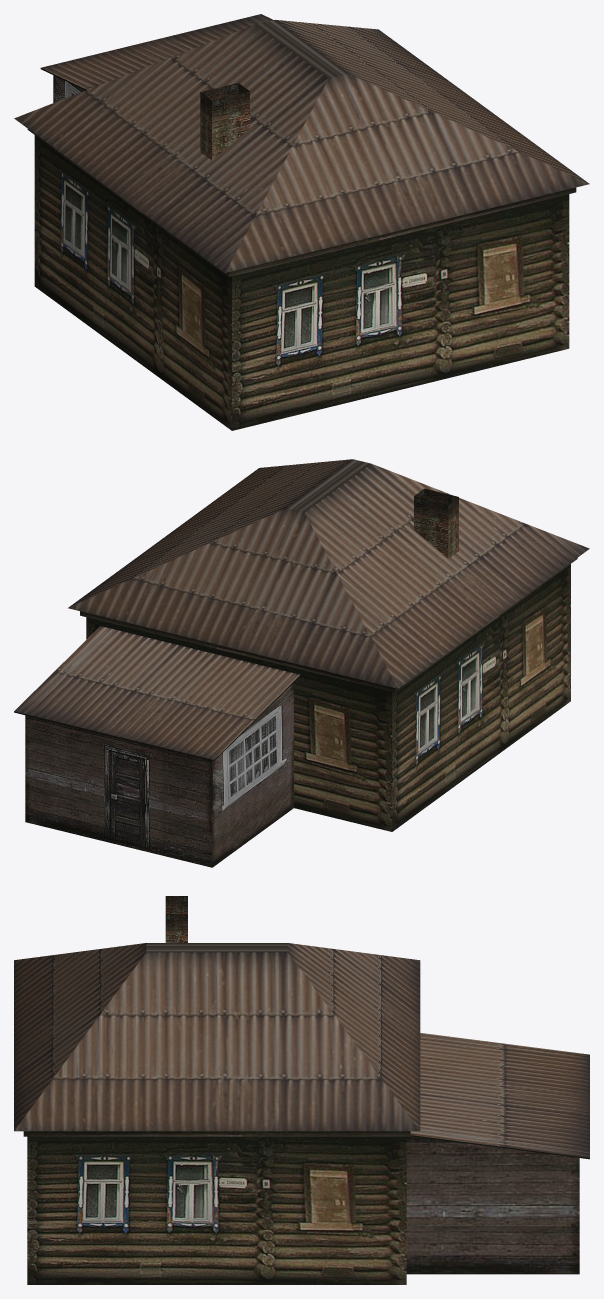
The model's file is sibir_domik2.FBX.
3 views of the same model, one above another, from view 1: azimuth 30°, elevation 25°; view 2: azimuth 150°, elevation 25°; view 3: azimuth 270°, elevation 25° (orthographic). The views are drawn at different scales.
Visible parts, largest first — view 1: sibir_domik2; view 2: sibir_domik2; view 3: sibir_domik2.
Boxes of the visible parts, x1,y1,x2,y2 form: sibir_domik2: (14,14,589,430); sibir_domik2: (14,459,589,867); sibir_domik2: (14,896,589,1284).
Bounding box in the file's own units: 781 × 1111 × 549.
